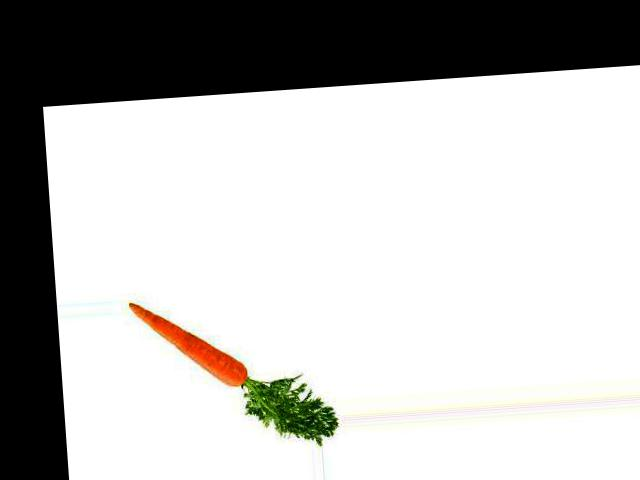carrot: (125, 286, 250, 396)
